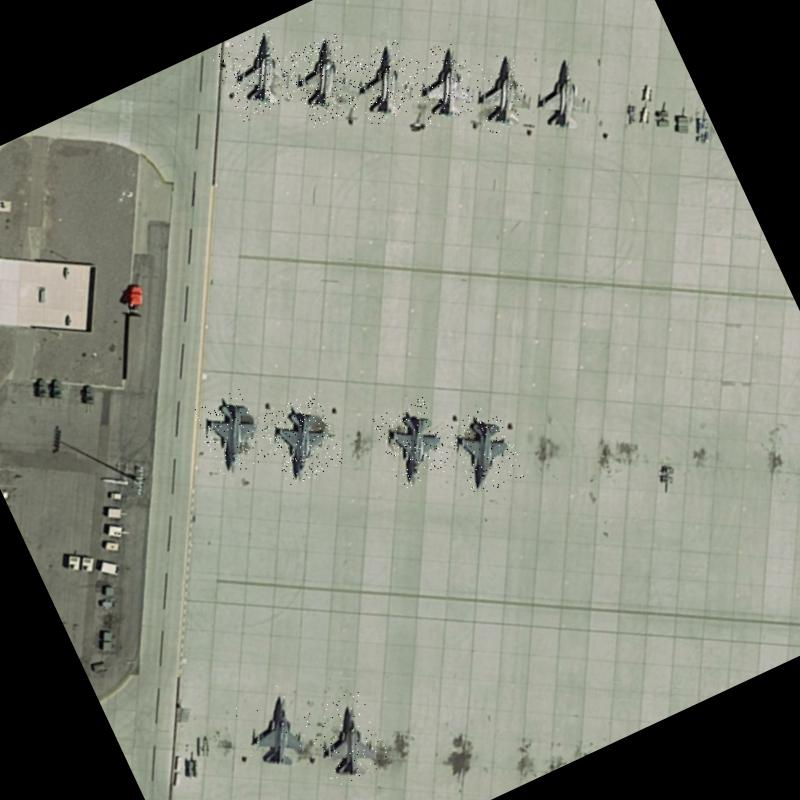A5: (227, 682, 319, 784), (300, 688, 392, 790), (255, 390, 346, 488), (209, 26, 300, 123), (280, 30, 368, 128), (442, 401, 528, 500), (189, 384, 276, 480), (398, 36, 486, 130), (370, 395, 456, 491), (340, 37, 426, 128), (458, 48, 542, 138), (516, 48, 600, 138)
